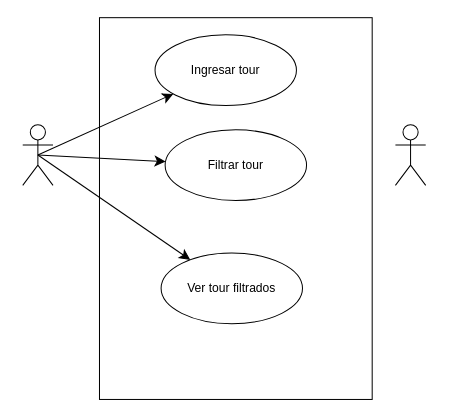
The diagram is 449 pixels wide and 417 high, and some of its shapes have lost their labels. The shapes that lost their labels are listed below. From the top down, each one's centre as x and y in pixels, then its label:
At pixel 37 154: "Usuario".
At pixel 410 154: "Sistema".
